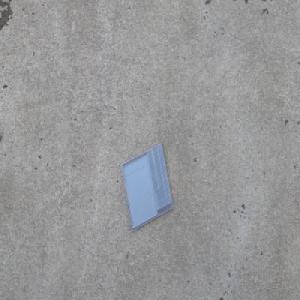PlasticPart: (120, 141, 173, 232)
